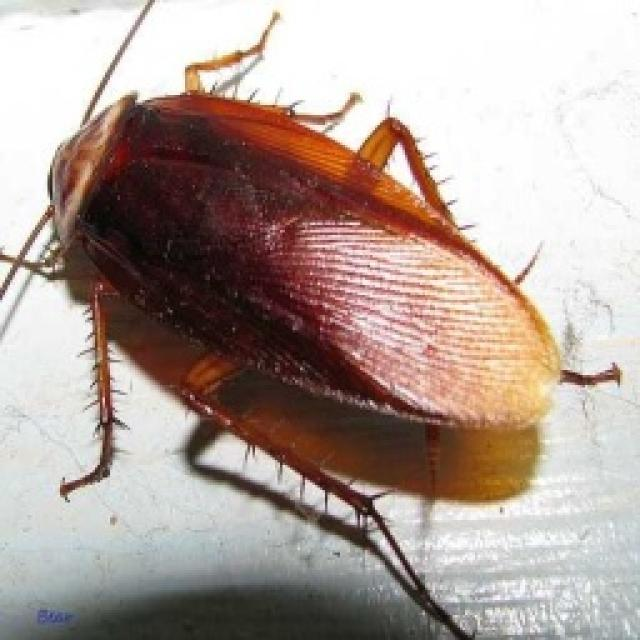cockroach: (28, 19, 580, 620)
